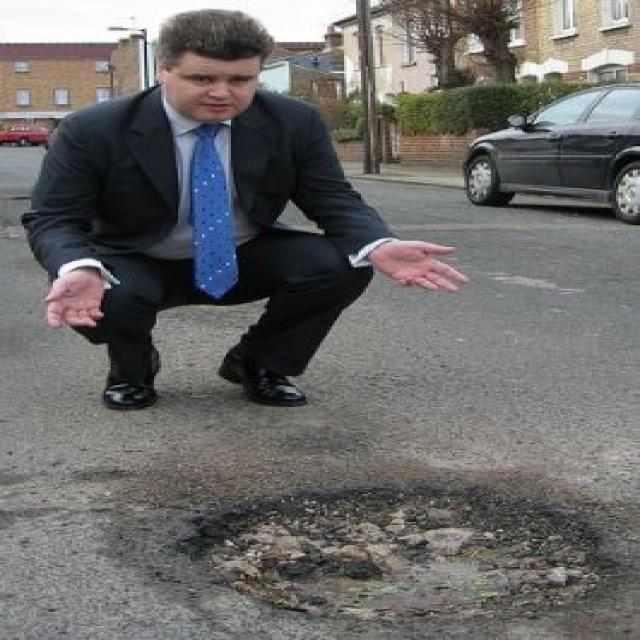pothole: (154, 474, 618, 624)
